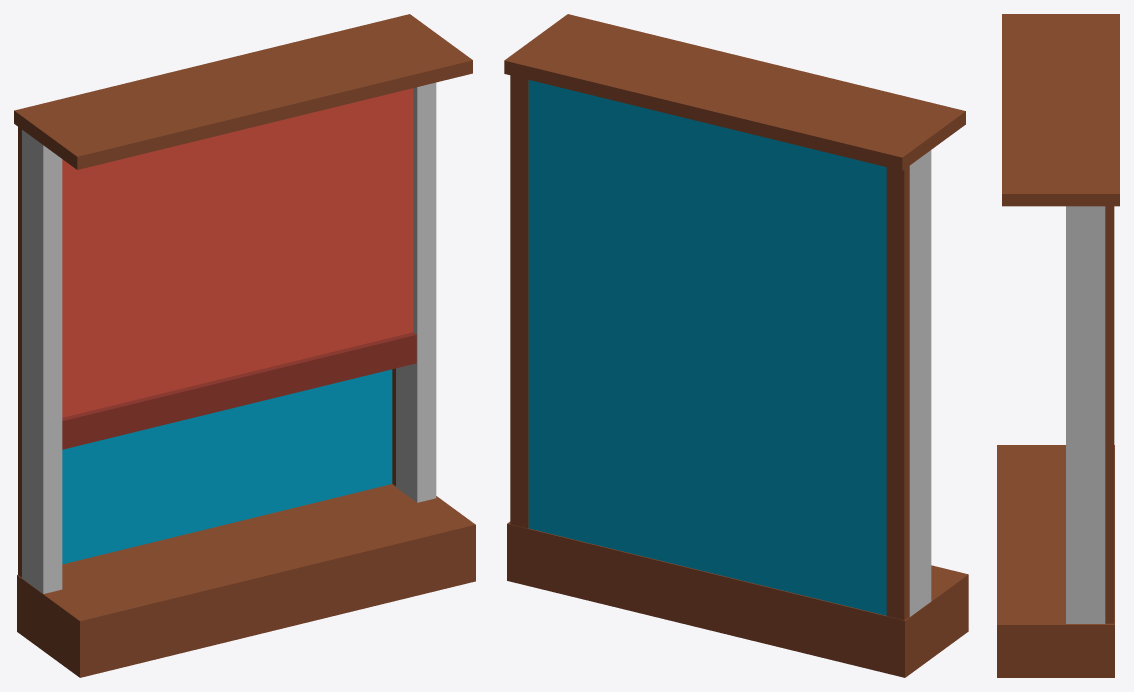
File: window.fbx
3 renders of one model, left to right at view 1: azimuth 30°, elevation 25°; view 2: azimuth 150°, elevation 25°; view 3: azimuth 270°, elevation 25°, orthographic. The views are drawn at different scales.
Visible parts, largest first — view 1: Plane_001, Cube_003, Plane, Cube_001, Cube, Cube_002; view 2: Plane, Cube_003, Cube_001; view 3: Cube_003, Cube.
Part boxes in pixels (x1,y1,x2,y2): Plane_001: [62, 88, 413, 417]; Cube_003: [14, 14, 475, 677]; Plane: [62, 369, 392, 564]; Cube_001: [22, 130, 62, 593]; Cube: [396, 82, 436, 502]; Cube_002: [62, 332, 416, 449]; Plane: [528, 80, 886, 615]; Cube_003: [504, 14, 968, 677]; Cube_001: [909, 150, 931, 616]; Cube_003: [997, 14, 1119, 677]; Cube: [1066, 206, 1105, 623].
Size of the model in its own units: 7.23 by 9.06 by 2.09.
